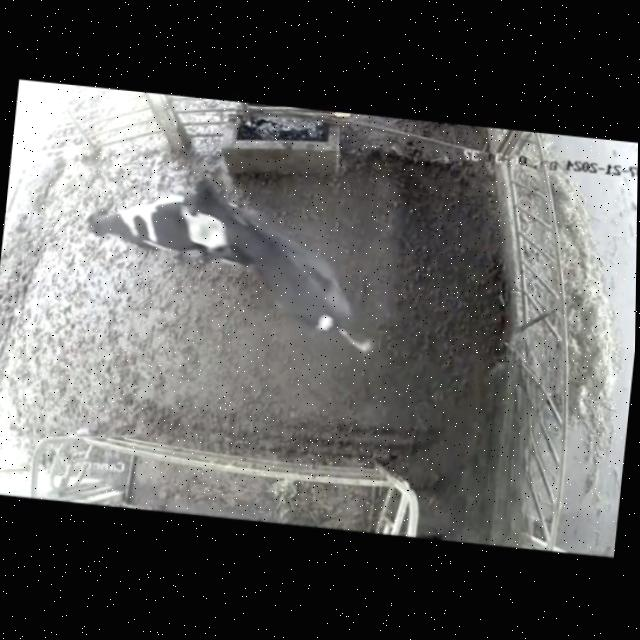ride: (152, 165, 401, 360)
stand: (67, 169, 228, 285)
